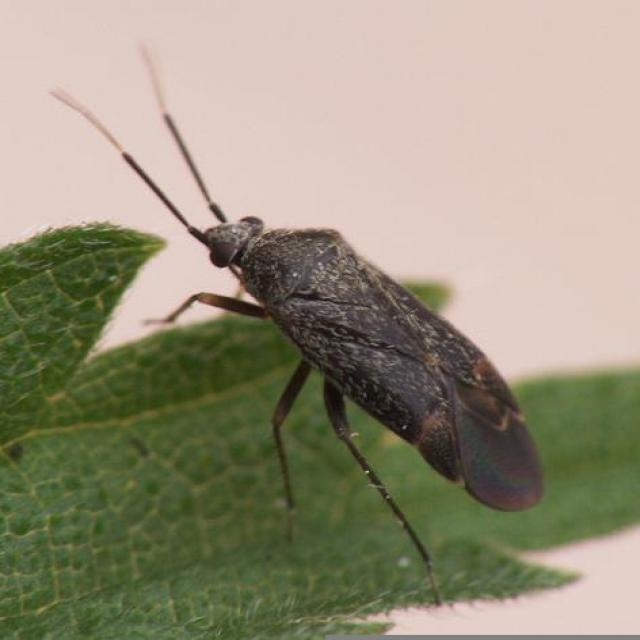Miridae-Adult-: (70, 48, 560, 578)
